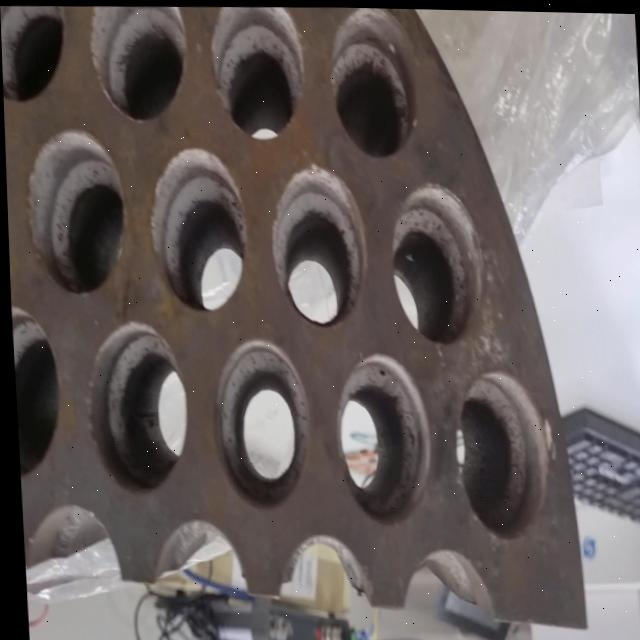Hole: (80, 318, 188, 496), (20, 125, 128, 299), (447, 366, 553, 540), (207, 335, 311, 511), (329, 349, 431, 526), (144, 143, 248, 314), (265, 161, 368, 329), (386, 179, 485, 346), (326, 6, 418, 158), (207, 4, 307, 142), (87, 5, 188, 124), (9, 306, 60, 481), (0, 5, 69, 105)
